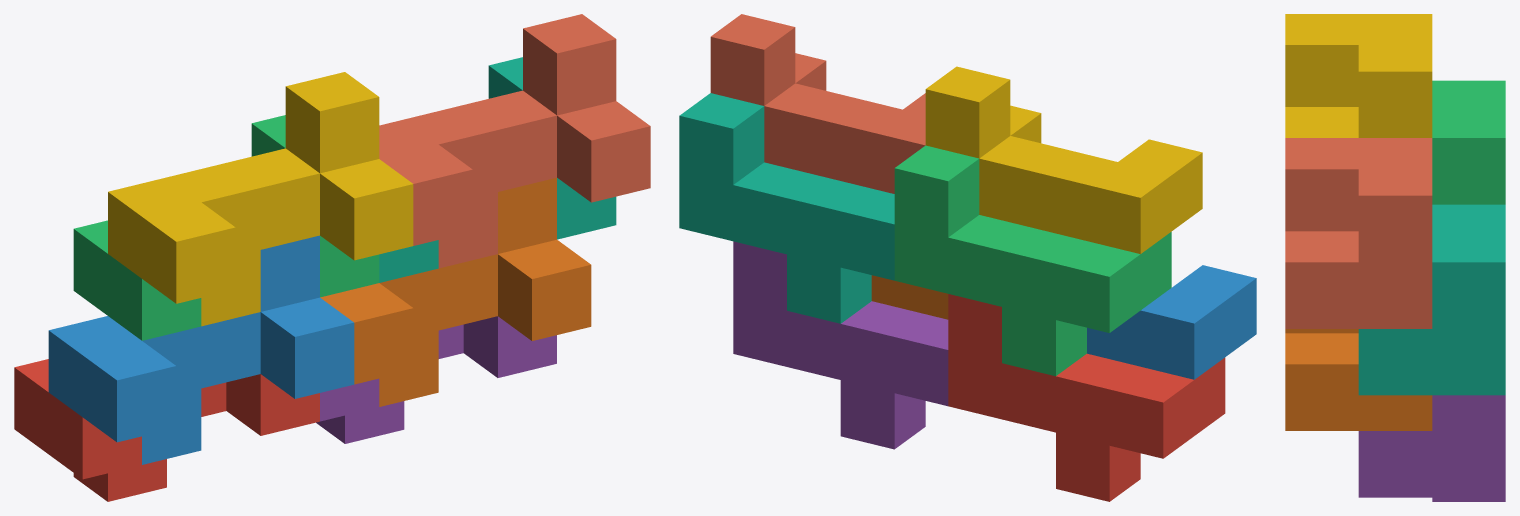
The model's file is tiling.obj.
3 renders of one model, left to right at view 1: azimuth 30°, elevation 25°; view 2: azimuth 150°, elevation 25°; view 3: azimuth 270°, elevation 25°, orthographic. The views are drawn at different scales.
Visible parts, largest first — view 1: copy_1_domain_4, copy_1_domain_8, copy_1_domain_2, copy_1_domain_6, copy_1_domain_1, copy_1_domain_3, copy_1_domain_5, copy_1_domain_7; view 2: copy_1_domain_3, copy_1_domain_7, copy_1_domain_4, copy_1_domain_1, copy_1_domain_5, copy_1_domain_8, copy_1_domain_2, copy_1_domain_6; view 3: copy_1_domain_8, copy_1_domain_7, copy_1_domain_4, copy_1_domain_5, copy_1_domain_6, copy_1_domain_3.
Boxes of the visible parts, x1,y1,x2,y2 form: copy_1_domain_4: (108, 72, 413, 326); copy_1_domain_8: (379, 14, 650, 268); copy_1_domain_2: (48, 235, 354, 464); copy_1_domain_6: (320, 177, 591, 406); copy_1_domain_1: (14, 359, 319, 501); copy_1_domain_3: (73, 115, 379, 340); copy_1_domain_5: (316, 316, 556, 443); copy_1_domain_7: (379, 57, 616, 282); copy_1_domain_3: (894, 145, 1171, 376); copy_1_domain_7: (679, 93, 894, 323); copy_1_domain_4: (925, 66, 1202, 253); copy_1_domain_1: (948, 294, 1225, 501); copy_1_domain_5: (733, 241, 948, 449); copy_1_domain_8: (710, 14, 925, 193); copy_1_domain_2: (1087, 265, 1256, 379); copy_1_domain_6: (871, 275, 948, 319); copy_1_domain_8: (1285, 138, 1432, 328); copy_1_domain_7: (1358, 204, 1505, 395); copy_1_domain_4: (1285, 14, 1432, 137); copy_1_domain_5: (1358, 395, 1505, 501); copy_1_domain_6: (1285, 329, 1432, 430); copy_1_domain_3: (1432, 80, 1505, 204).
Bounding box in the file's own units: 9 × 6 × 3.
